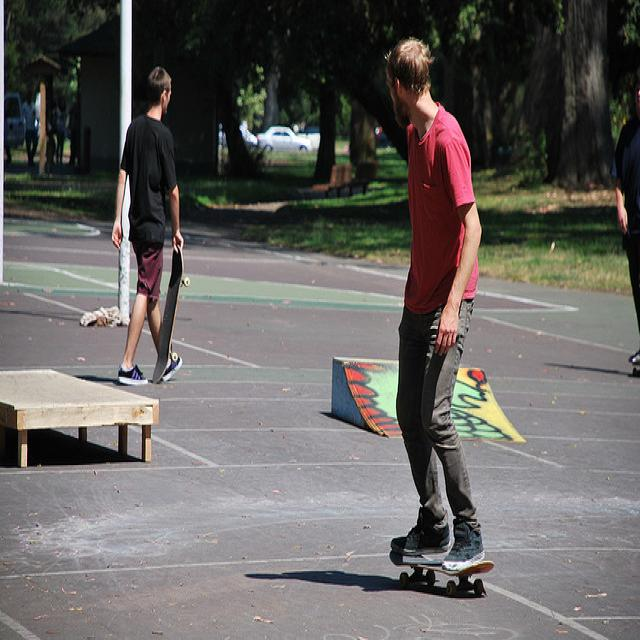Vehicle: (257, 126, 313, 152), (4, 93, 25, 147), (219, 124, 258, 150)
